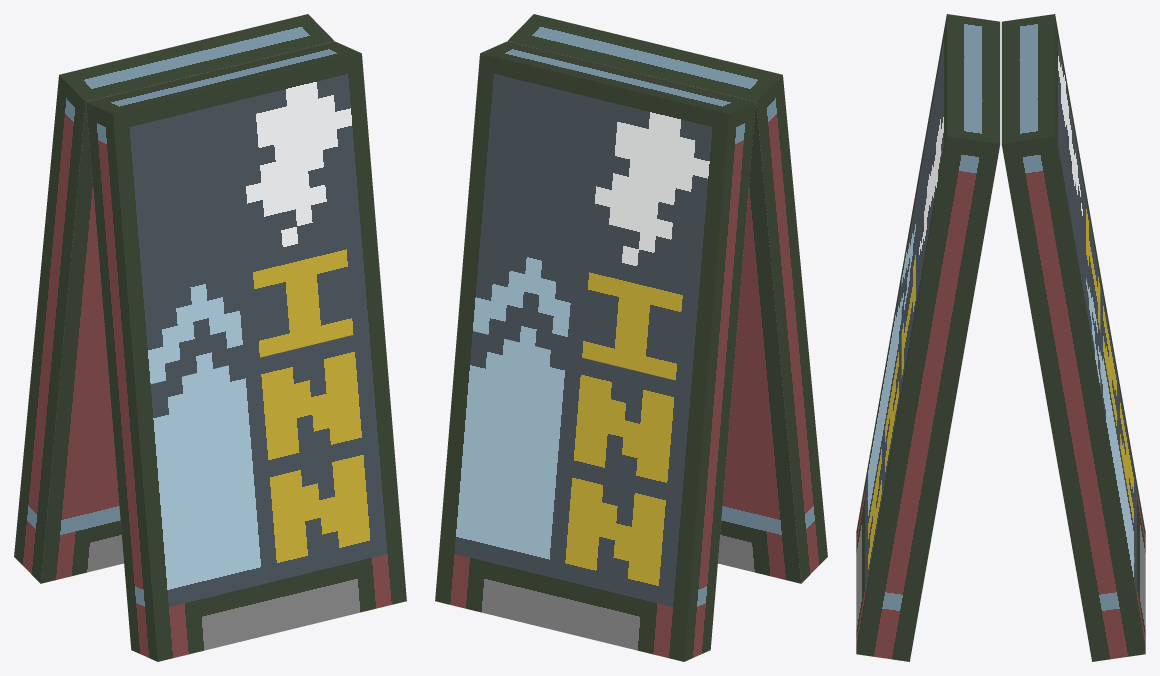
File: sign_inn.glb
3 renders of one model, left to right at view 1: azimuth 30°, elevation 25°; view 2: azimuth 150°, elevation 25°; view 3: azimuth 270°, elevation 25°, orthographic.
Visible parts, largest first — view 1: Cube; view 2: Cube; view 3: Cube.
Boxes of the visible parts, x1,y1,x2,y2 form: Cube: (14,14,406,661); Cube: (435,14,827,661); Cube: (856,14,1145,661).
Bounding box in the file's own units: 1 × 2 × 1.
1 material, 1 textured.
